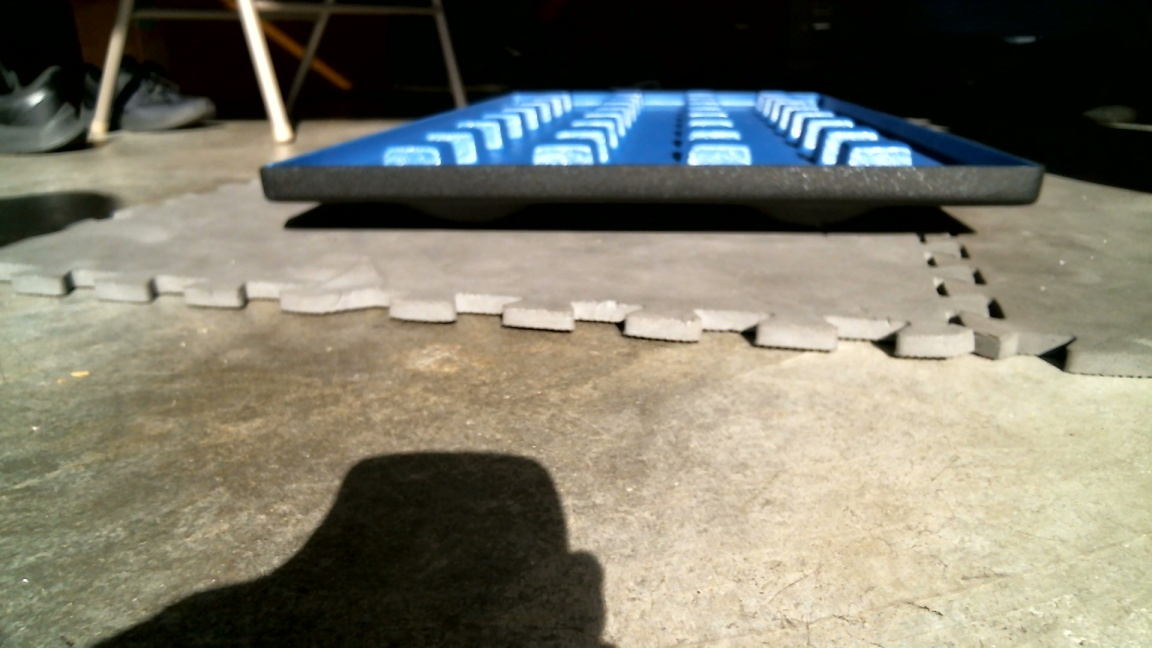blue_foundation: (258, 91, 1051, 236)
